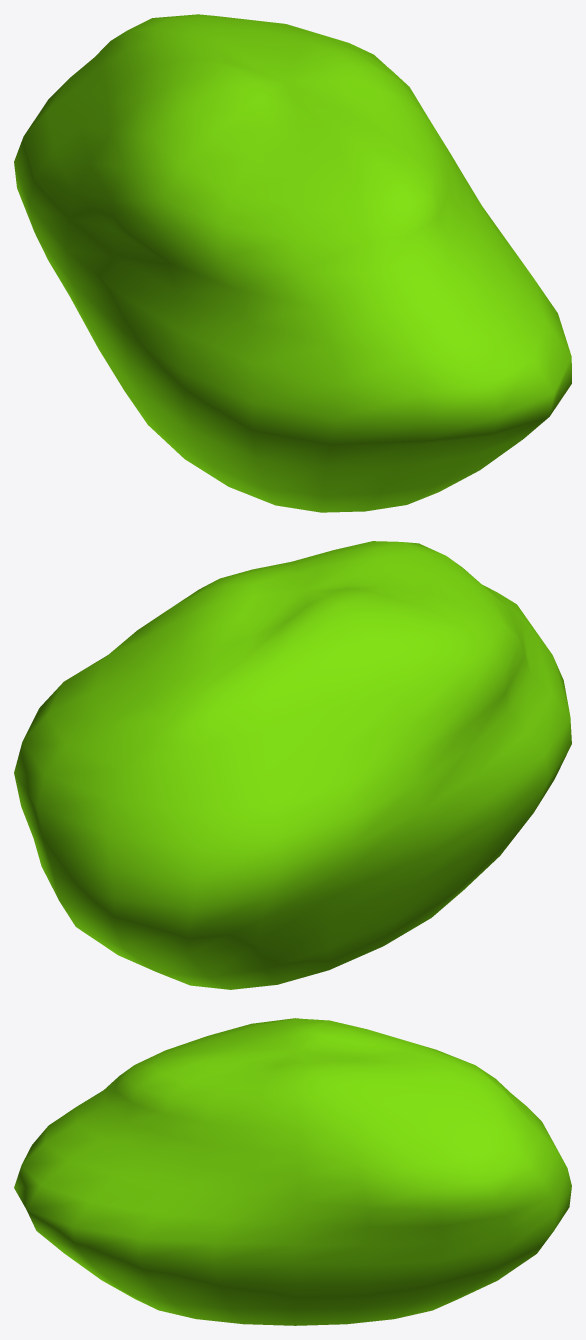
Rendered from Bush2.fbx.
3 renders of one model, top to bottom at view 1: azimuth 30°, elevation 25°; view 2: azimuth 150°, elevation 25°; view 3: azimuth 270°, elevation 25°, orthographic. The views are drawn at different scales.
Parts seen in each view (by area): view 1: pSphere1; view 2: pSphere1; view 3: pSphere1.
Part boxes in pixels (x1,y1,x2,y2): pSphere1: (14, 14, 571, 512); pSphere1: (14, 541, 571, 989); pSphere1: (14, 1018, 571, 1325).
Size of the model in its own units: 0.7245 by 0.6347 by 1.32.
